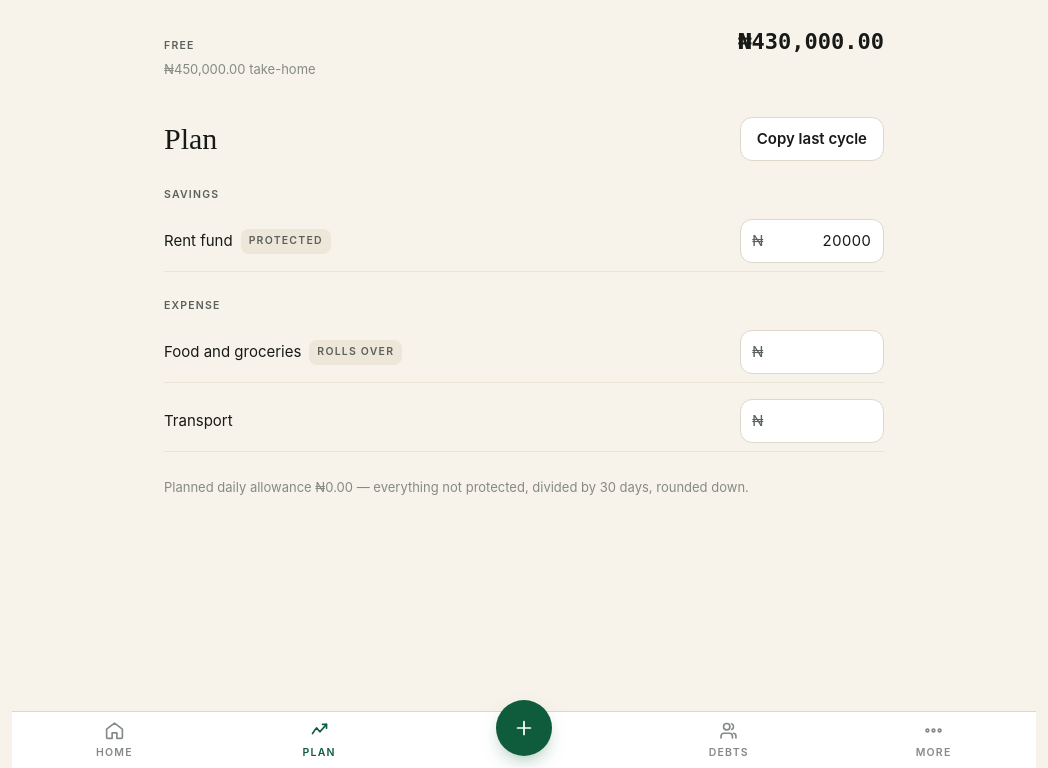
Test: copy last cycle › never overwrites a figure already typed this cycle
Expected: the heading "Plan" is shown, left=164, top=121, right=217, bottom=157
Click the button "Copy last cycle" at (812, 139), box left=740, top=117, right=884, bottom=161
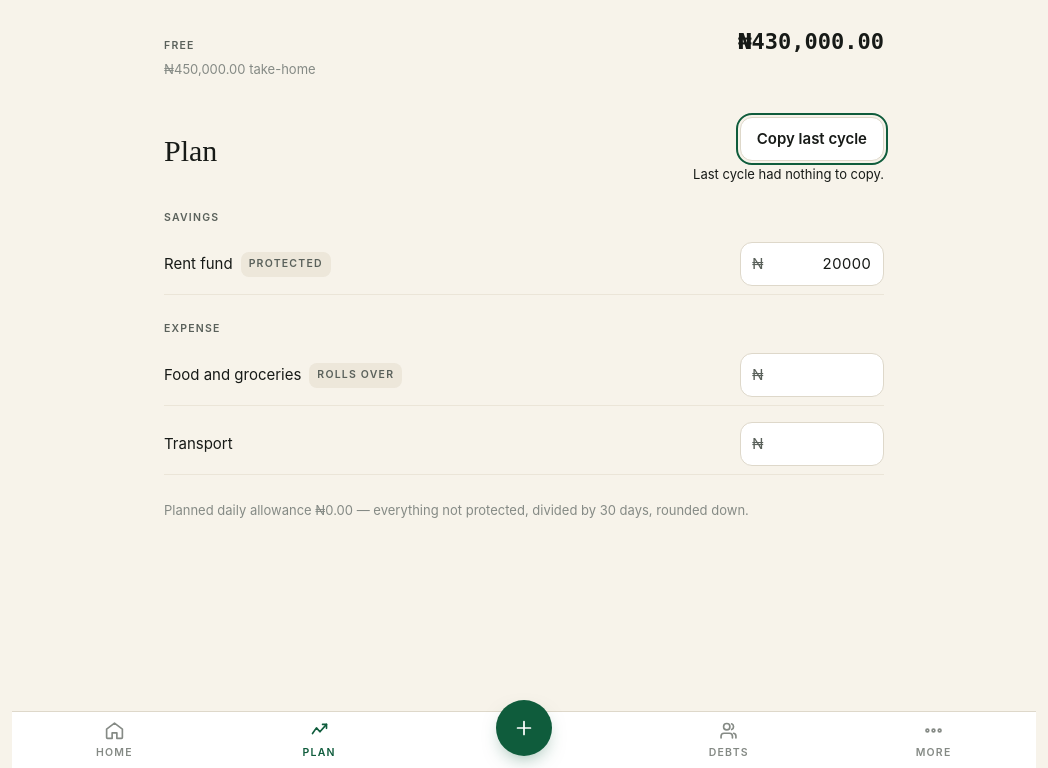
Expected: the field named "Rent fund amount" in the row of "Rent fund" holds "20000", left=740, top=242, right=884, bottom=286
Now the text "Last cycle had nothing to copy." is shown, box left=693, top=165, right=884, bottom=184
